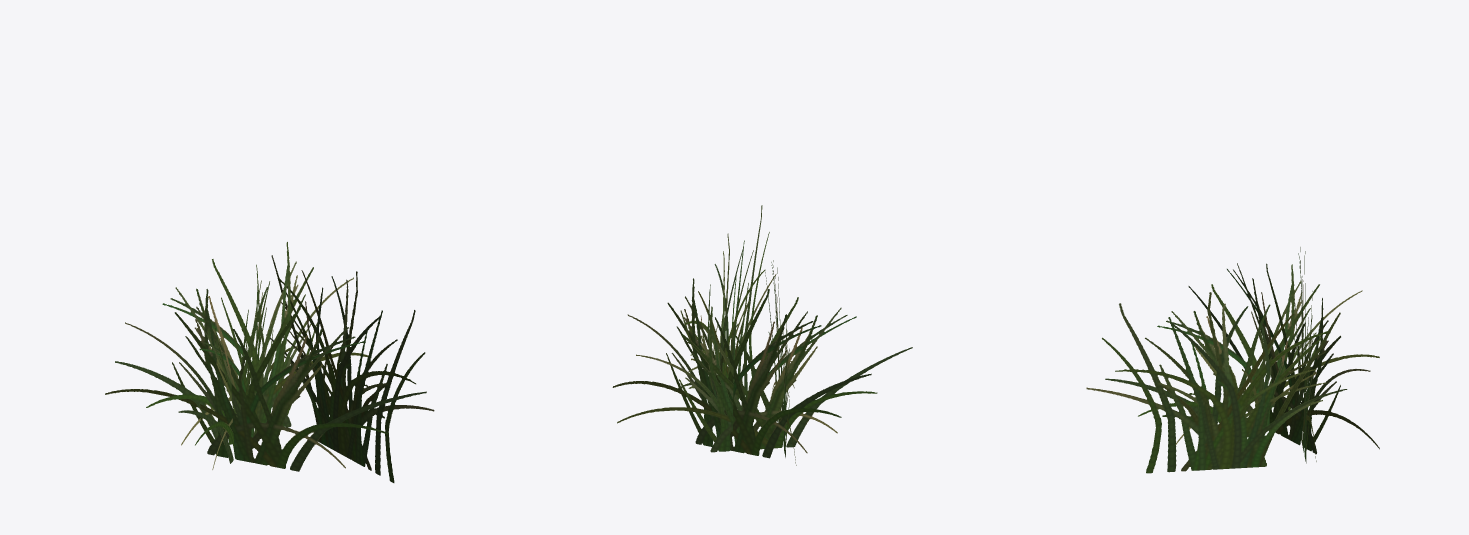
Rendered from trava_nizka_1.glb.
3 views of the same model, side by side, from view 1: azimuth 30°, elevation 25°; view 2: azimuth 150°, elevation 25°; view 3: azimuth 270°, elevation 25° (orthographic). The views are drawn at different scales.
Parts seen in each view (by area): view 1: trava_nizka_1; view 2: trava_nizka_1; view 3: trava_nizka_1.
Boxes of the visible parts, box(x1,y1,x2,y2) form: trava_nizka_1: box(105, 242, 434, 482); trava_nizka_1: box(612, 205, 912, 465); trava_nizka_1: box(1086, 247, 1379, 473).
Size of the model in its own units: 0.3633 by 0.3184 by 0.3855.
Materials: 1 (1 with a texture image).
